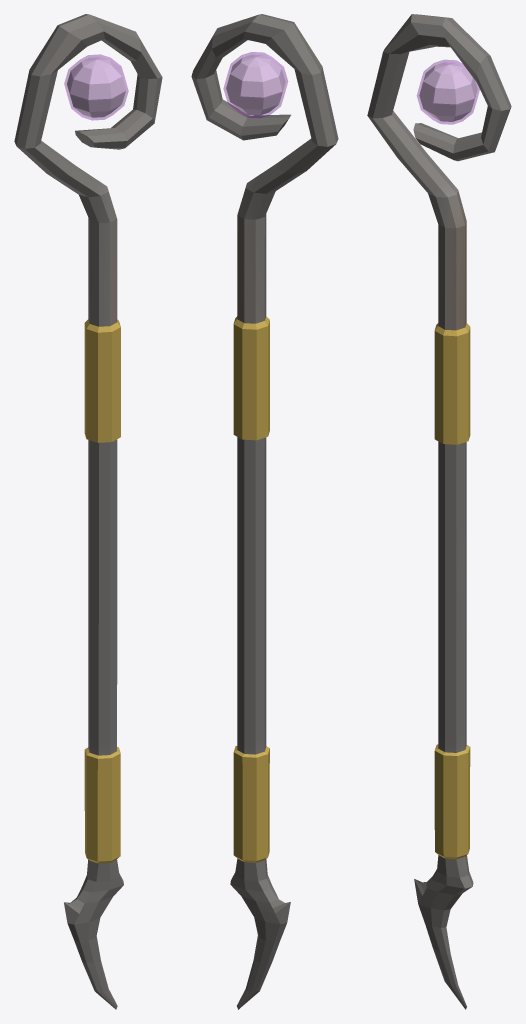
The model's file is CajadoMagico.fbx.
3 views of the same model, side by side, from view 1: azimuth 30°, elevation 25°; view 2: azimuth 150°, elevation 25°; view 3: azimuth 330°, elevation 25° (orthographic).
Visible parts, largest first — view 1: CajadoMagico; view 2: CajadoMagico; view 3: CajadoMagico.
Part boxes in pixels (x1=…): CajadoMagico: x1=14, y1=14, x2=162, y2=1009; CajadoMagico: x1=191, y1=14, x2=338, y2=1009; CajadoMagico: x1=367, y1=14, x2=511, y2=1009.
Size of the model in its own units: 13.81 by 92.05 by 5.58.
